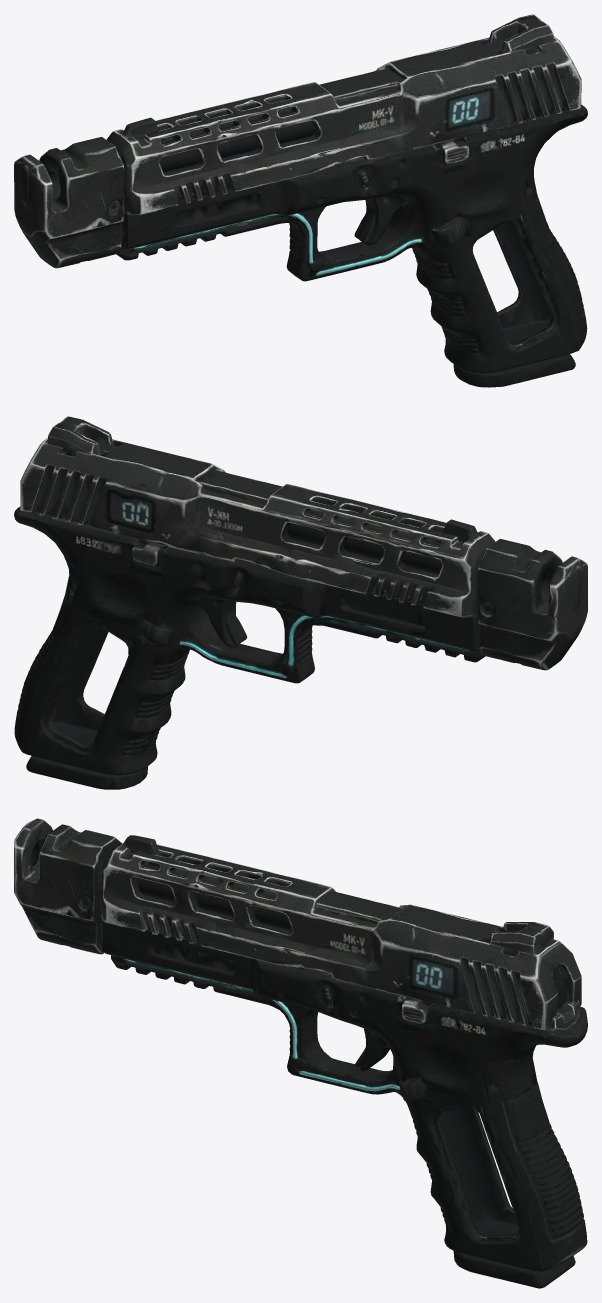
File: vm_pistol.glb
The picture shows the model from 3 angles, top to bottom: view 1: azimuth 30°, elevation 25°; view 2: azimuth 150°, elevation 25°; view 3: azimuth 330°, elevation 25°; orthographic projection.
Size of the model in its own units: 1.9 by 1.11 by 0.2612.
1 material, 1 textured.
